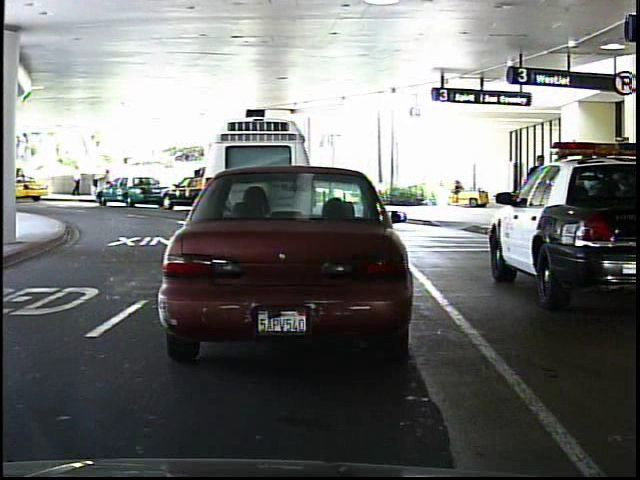person: (521, 149, 552, 230), (98, 165, 116, 201), (71, 161, 85, 200)
